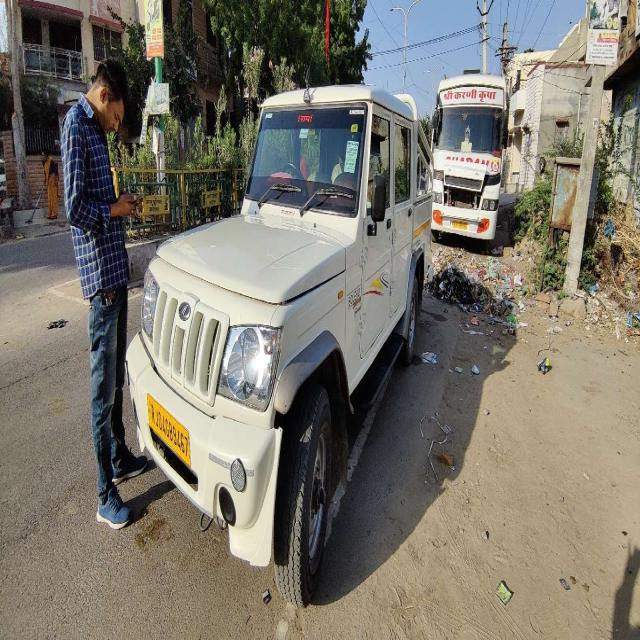light_vehicle: (127, 93, 424, 496)
